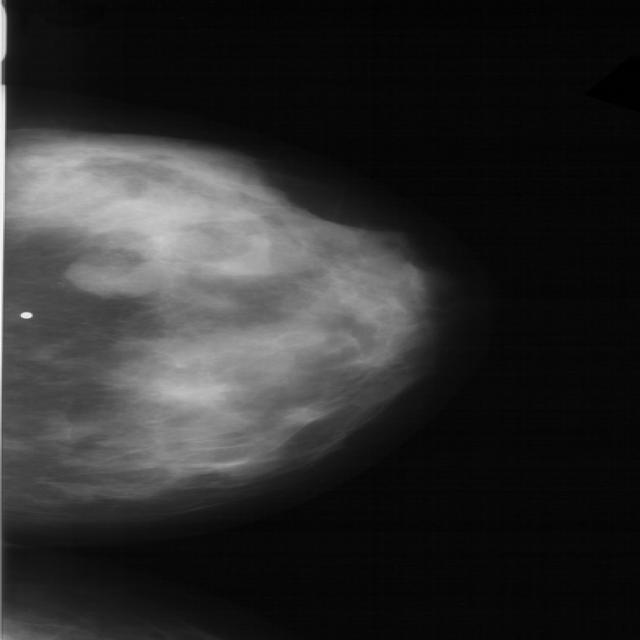tumour: (60, 250, 168, 297)
